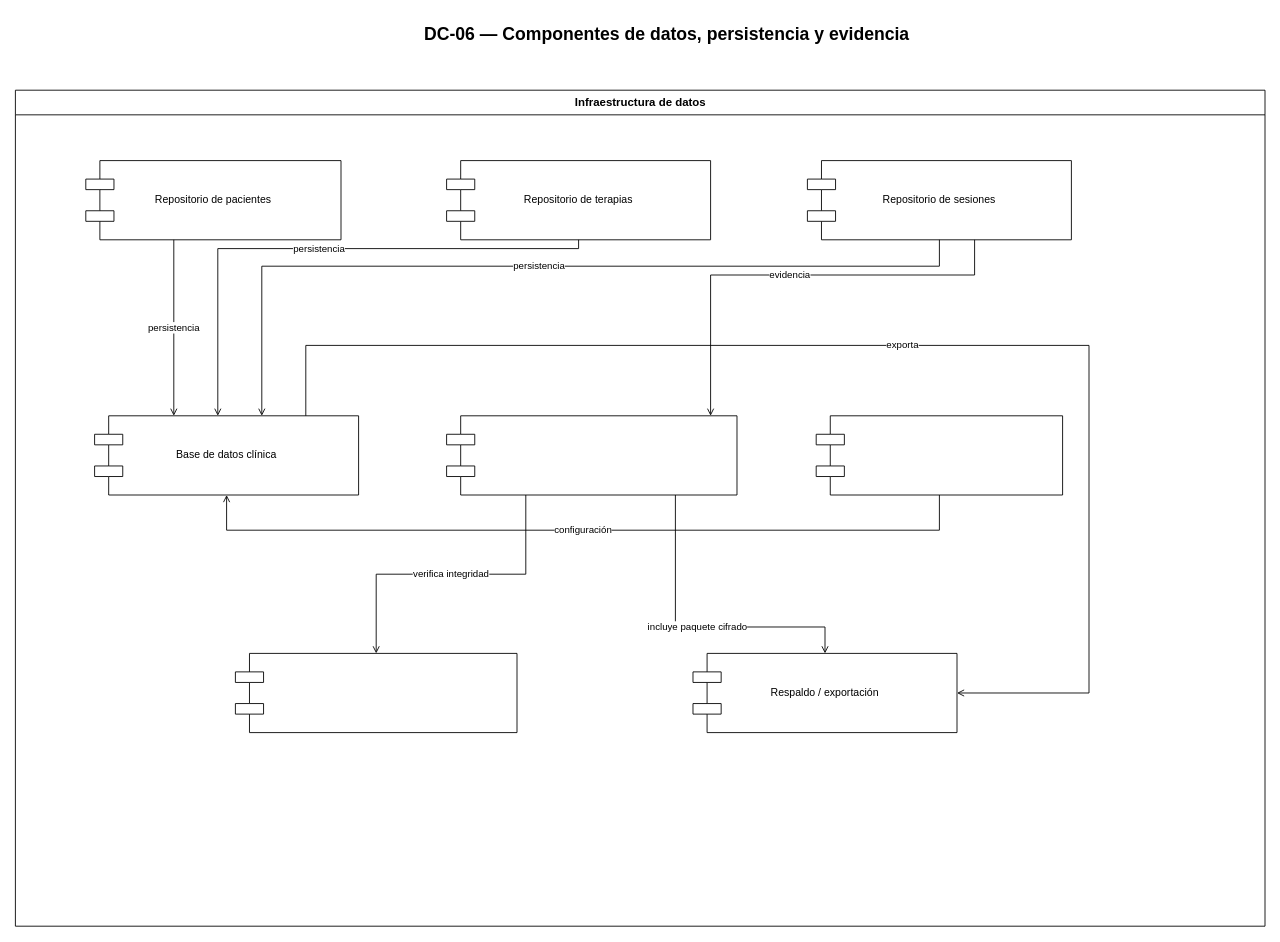
This 1280x942 diagram has some shape labels left out. The shapes that lost their labels are listed below. From the top down, each one's box as (x1, y1, x2, y2) in pixels, then its label:
(446, 415, 737, 495): Almacenamiento de evidencia cifrada
(815, 415, 1063, 495): Catálogos / parámetros
(235, 653, 517, 733): Control de integridad / SHA-256
